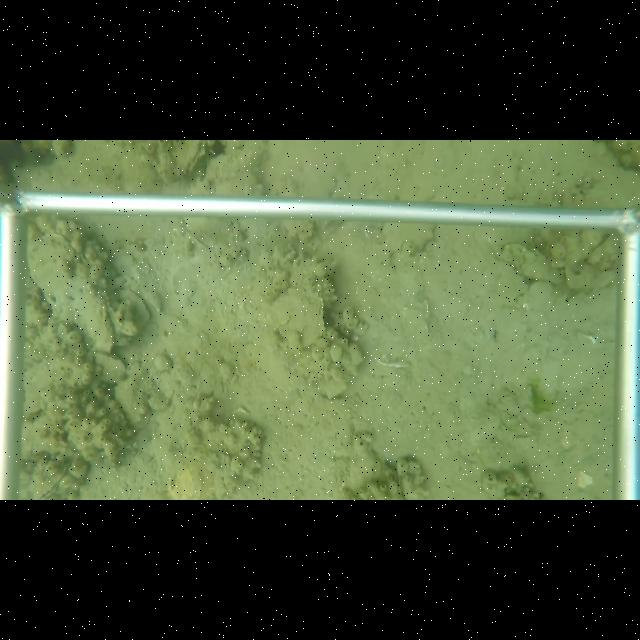Oyster-Closed: (28, 231, 118, 352), (264, 286, 327, 355), (500, 241, 566, 284), (90, 347, 129, 386), (117, 288, 154, 327)
Oyster-Open: (170, 142, 209, 176)
